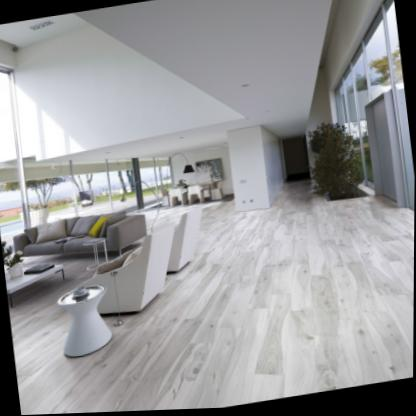Wooden floor: (9, 179, 415, 415)
